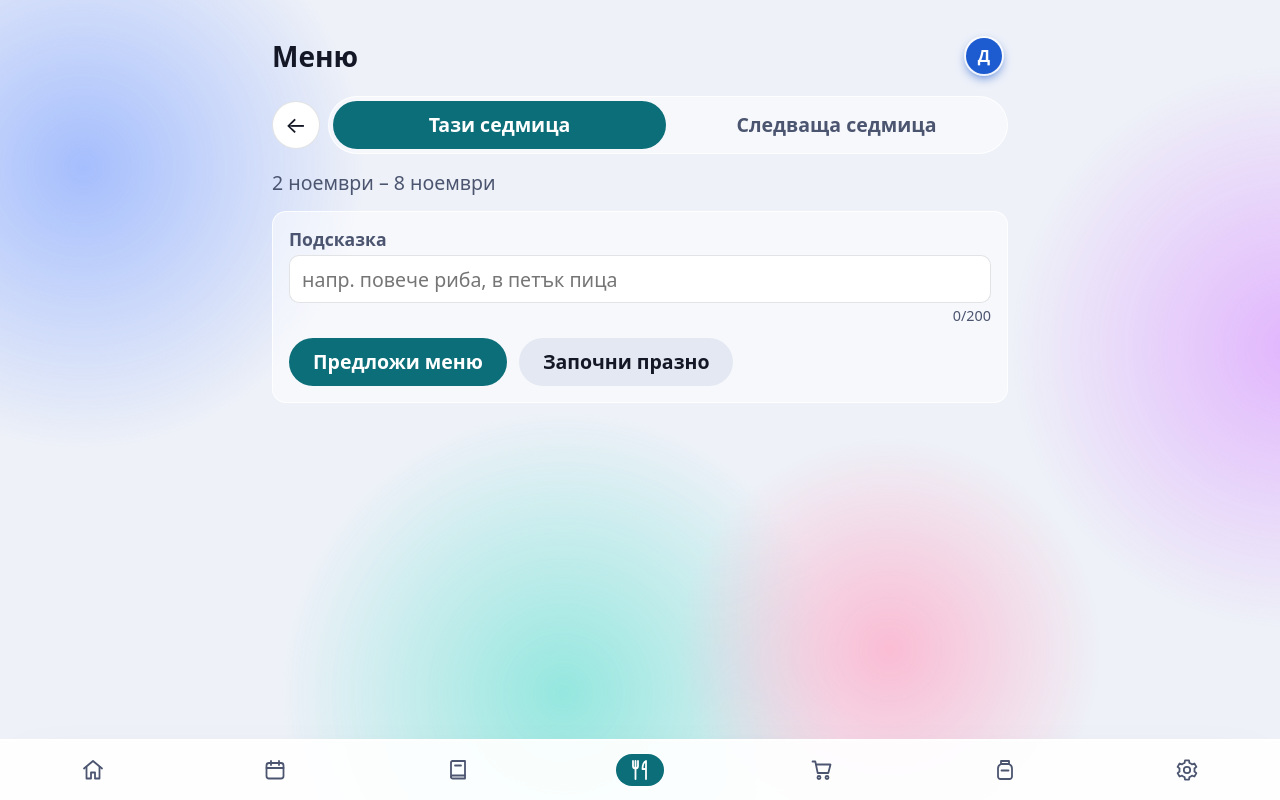
Test: MenuWeek › при < 7 вечерни рецепти казва колко още трябват и води към предложенията
The width and height of the screenshot is (1280, 800).
In the field labelled "Подсказка": (640, 279) top-left (289, 255), bottom-right (991, 303), type "  повече риба "
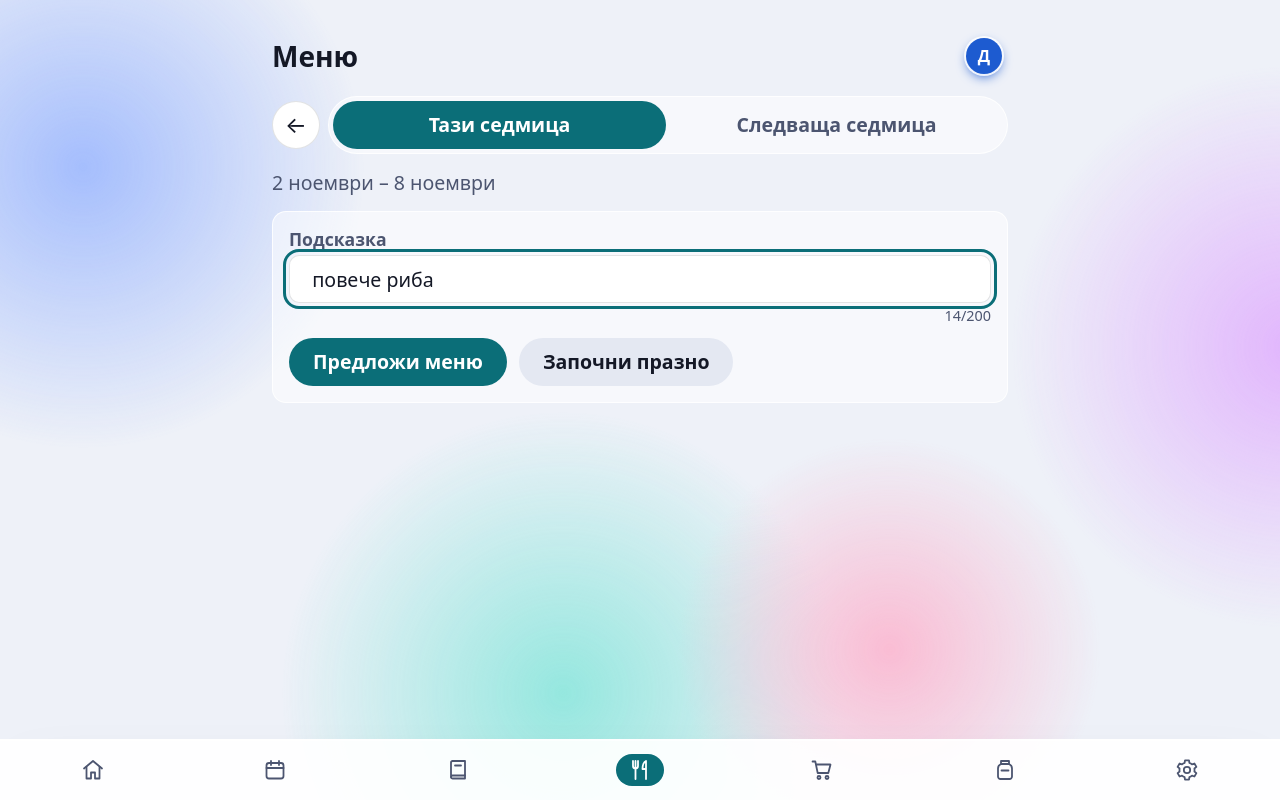
Click the button "Предложи меню": (398, 362) top-left (289, 338), bottom-right (507, 386)
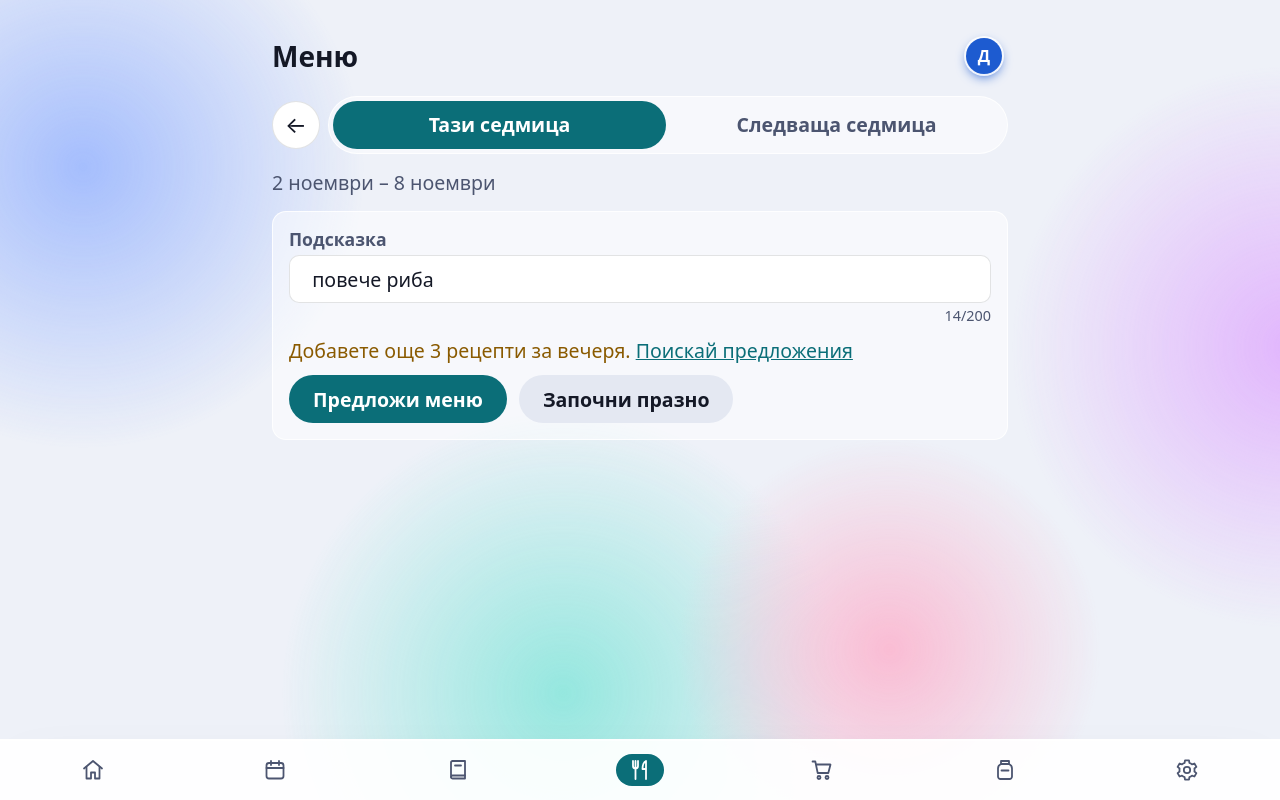
Now the message shows "Добавете още 3 рецепти", box top-left (289, 337), bottom-right (853, 364)
